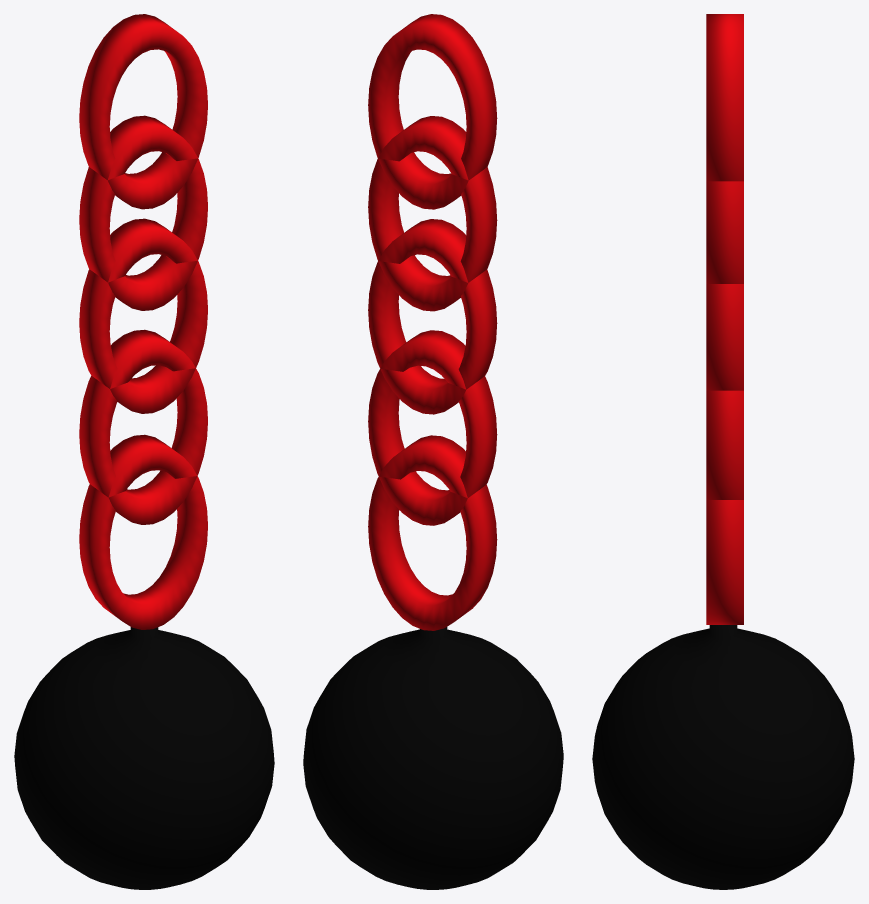
File: ball.fbx
The picture shows the model from 3 angles, left to right: view 1: azimuth 30°, elevation 25°; view 2: azimuth 150°, elevation 25°; view 3: azimuth 270°, elevation 25°; orthographic projection.
Parts seen in each view (by area): view 1: Circle, Sphere; view 2: Circle, Sphere; view 3: Sphere, Circle.
Boxes of the visible parts, x1,y1,x2,y2 form: Circle: [79, 14, 207, 629]; Sphere: [14, 627, 274, 889]; Circle: [368, 14, 497, 630]; Sphere: [303, 627, 563, 889]; Sphere: [592, 625, 854, 889]; Circle: [706, 14, 743, 624].
Size of the model in its own units: 58.9 by 213 by 58.9.
